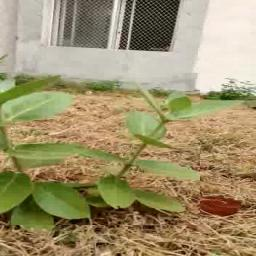CALOTROPIS: (0, 72, 201, 226)
